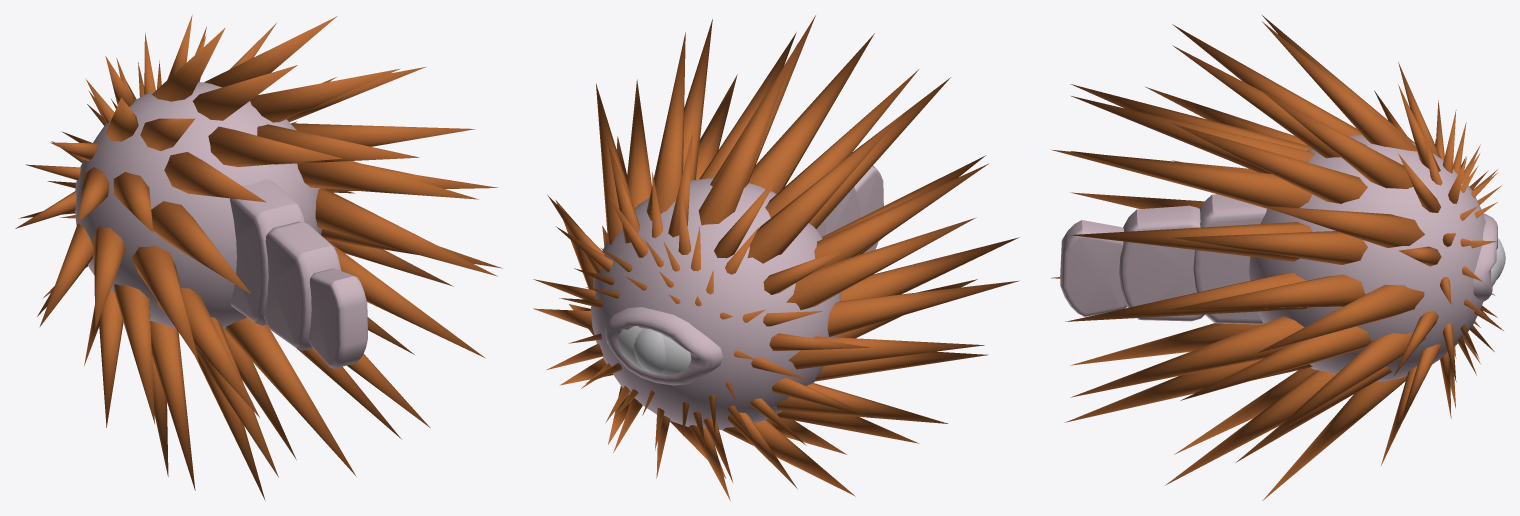
The model's file is SeaUrchinEnemy.fbx.
The picture shows the model from 3 angles, left to right: view 1: azimuth 30°, elevation 25°; view 2: azimuth 150°, elevation 25°; view 3: azimuth 270°, elevation 25°; orthographic projection.
Visible parts, largest first — view 1: pCone39 (×12), pSphere1, pCone40 (×10), pCylinder2, pCylinder1, pCylinder3, pCone77, pCone74, pCone78, pCone80, pCone70, pCone71 (+7 smaller); view 2: pSphere1, pCone40 (×8), pCone39 (×9), pCone41 (×10), pTorus1, pCone80, pCone71, pCone69, pCone79, pSphere2, pCone78, pSphere3 (+5 smaller); view 3: pCone39 (×9), pCone40 (×8), pSphere1, pCylinder2, pCylinder3, pCone41 (×7), pCone79, pCone76, pCylinder1, pCone78, pCone77, pCone80 (+6 smaller).
Boxes of the visible parts, <box> form: pCone39 (×12): <box>94,65,502,500</box>; pSphere1: <box>75,82,321,329</box>; pCone40 (×10): <box>39,16,453,476</box>; pCylinder2: <box>263,221,341,350</box>; pCylinder1: <box>230,179,305,325</box>; pCylinder3: <box>308,268,367,368</box>; pCone77: <box>315,188,497,276</box>; pCone74: <box>224,317,356,476</box>; pCone78: <box>297,161,478,199</box>; pCone80: <box>208,126,341,166</box>; pCone70: <box>151,201,250,293</box>; pCone71: <box>131,245,198,361</box>; pSphere1: <box>591,178,840,429</box>; pCone40 (×8): <box>596,32,984,496</box>; pCone39 (×9): <box>626,15,1019,454</box>; pCone41 (×10): <box>533,132,873,501</box>; pTorus1: <box>604,307,723,385</box>; pCone80: <box>748,33,874,193</box>; pCone71: <box>840,237,1019,301</box>; pCone69: <box>809,77,950,228</box>; pCone79: <box>699,32,796,179</box>; pSphere2: <box>618,326,691,375</box>; pCone78: <box>696,74,737,179</box>; pSphere3: <box>634,328,665,374</box>; pCone39 (×9): <box>1145,24,1371,485</box>; pCone40 (×8): <box>1235,14,1426,500</box>; pSphere1: <box>1249,134,1485,381</box>; pCylinder2: <box>1119,205,1204,321</box>; pCylinder3: <box>1060,220,1126,316</box>; pCone41 (×7): <box>1381,62,1441,465</box>; pCone79: <box>1070,151,1312,212</box>; pCone76: <box>1070,316,1304,397</box>; pCylinder1: <box>1193,194,1266,324</box>; pCone78: <box>1070,222,1312,261</box>; pCone77: <box>1065,272,1306,321</box>; pCone80: <box>1070,95,1315,173</box>.
Bounding box in the file's own units: 5.27 × 5.28 × 4.88.
